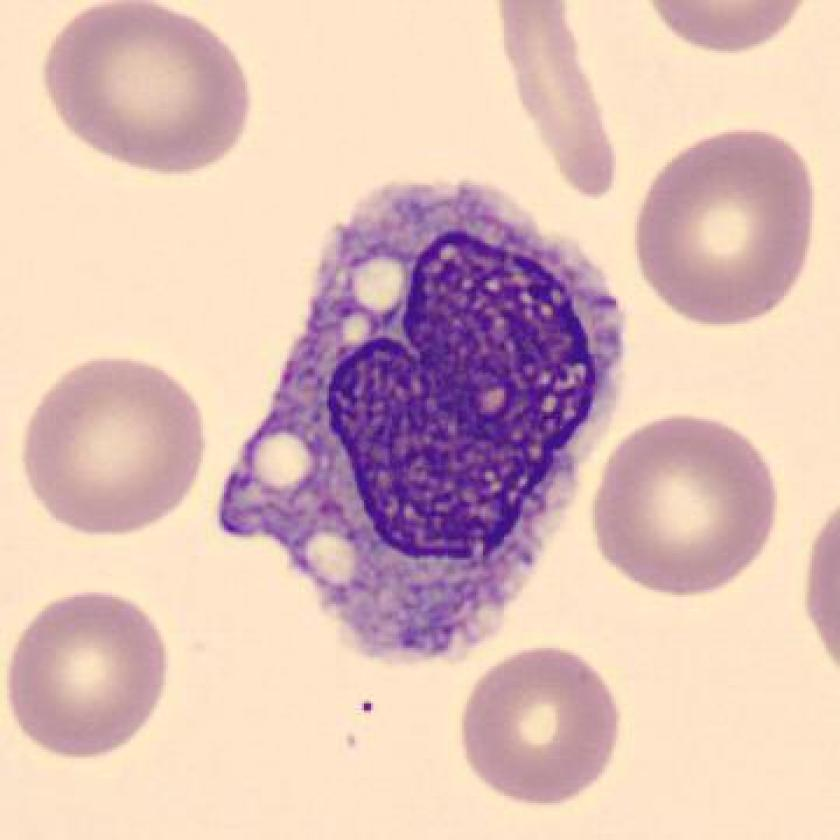monocyte: (192, 156, 650, 684)
